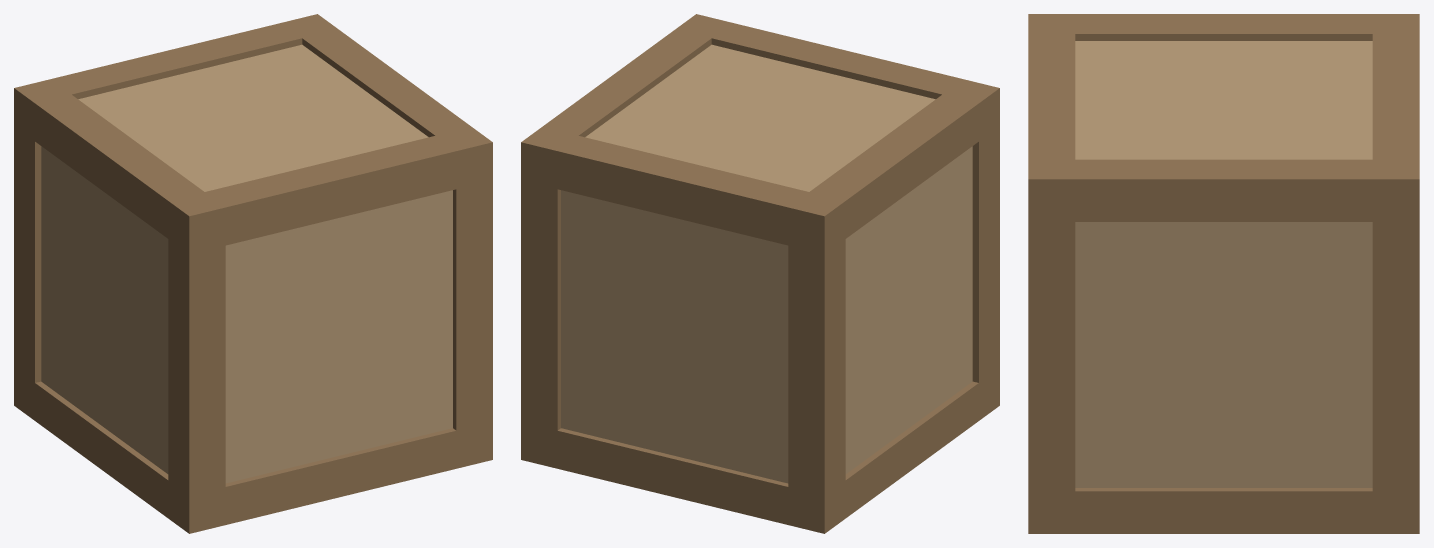
The model's file is crate.glb.
3 views of the same model, side by side, from view 1: azimuth 30°, elevation 25°; view 2: azimuth 150°, elevation 25°; view 3: azimuth 270°, elevation 25° (orthographic). The views are drawn at different scales.
Visible parts, largest first — view 1: crate; view 2: crate; view 3: crate.
Boxes of the visible parts, x1,y1,x2,y2 form: crate: (14, 14, 492, 533); crate: (521, 14, 999, 533); crate: (1028, 14, 1419, 533).
Size of the model in its own units: 1 by 1 by 1.
